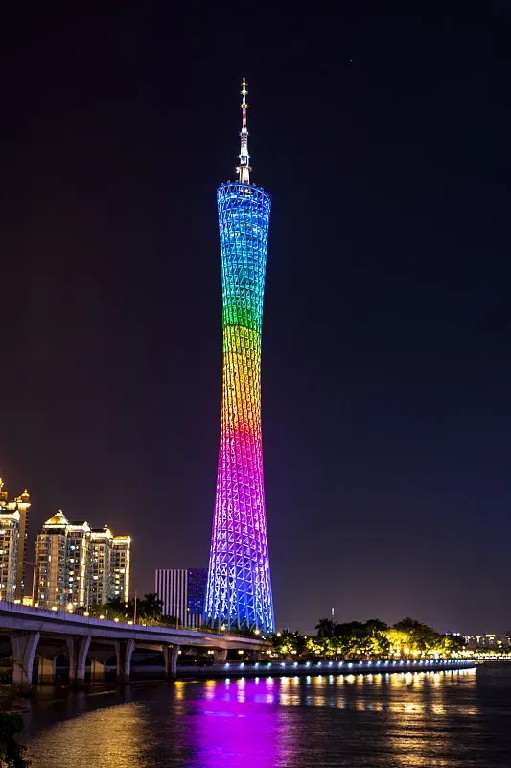Canton: (201, 68, 280, 634)
